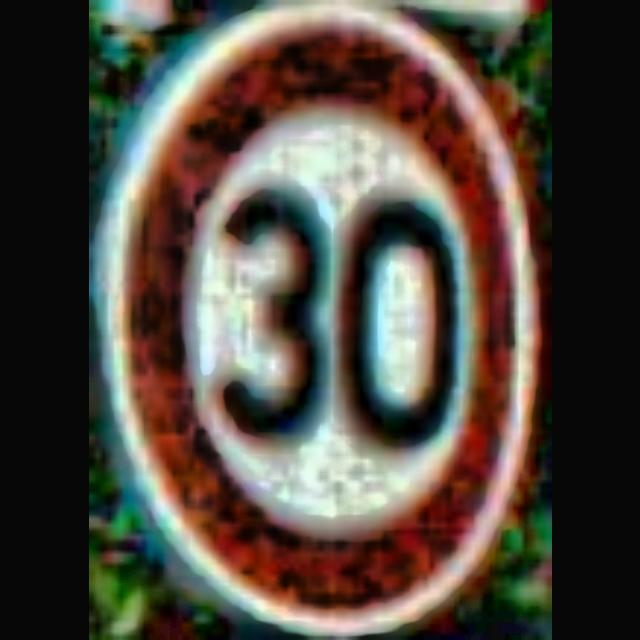speed_30: (117, 16, 531, 624)
